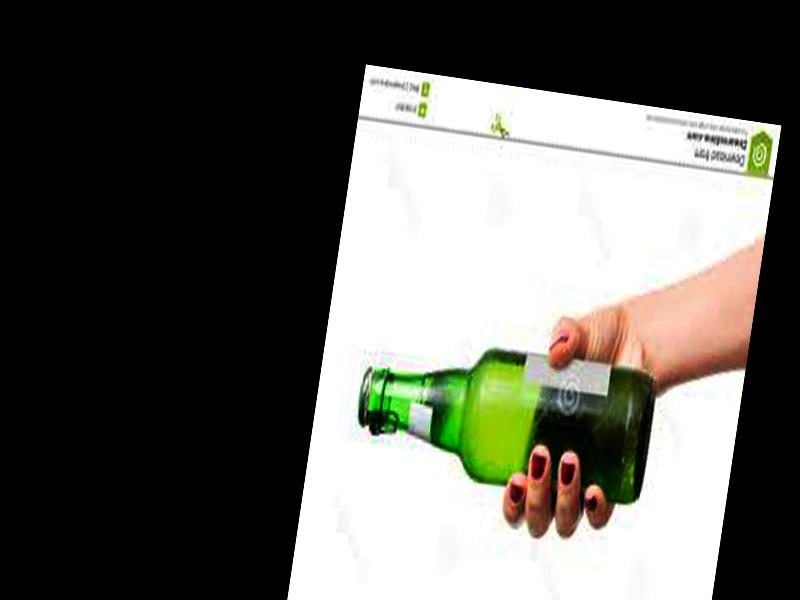Beer: (348, 325, 660, 506)
